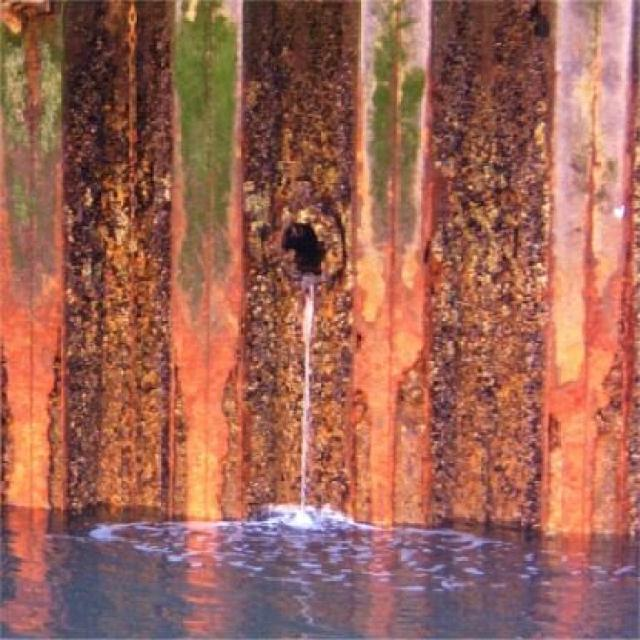corrosion: (0, 2, 640, 516)
